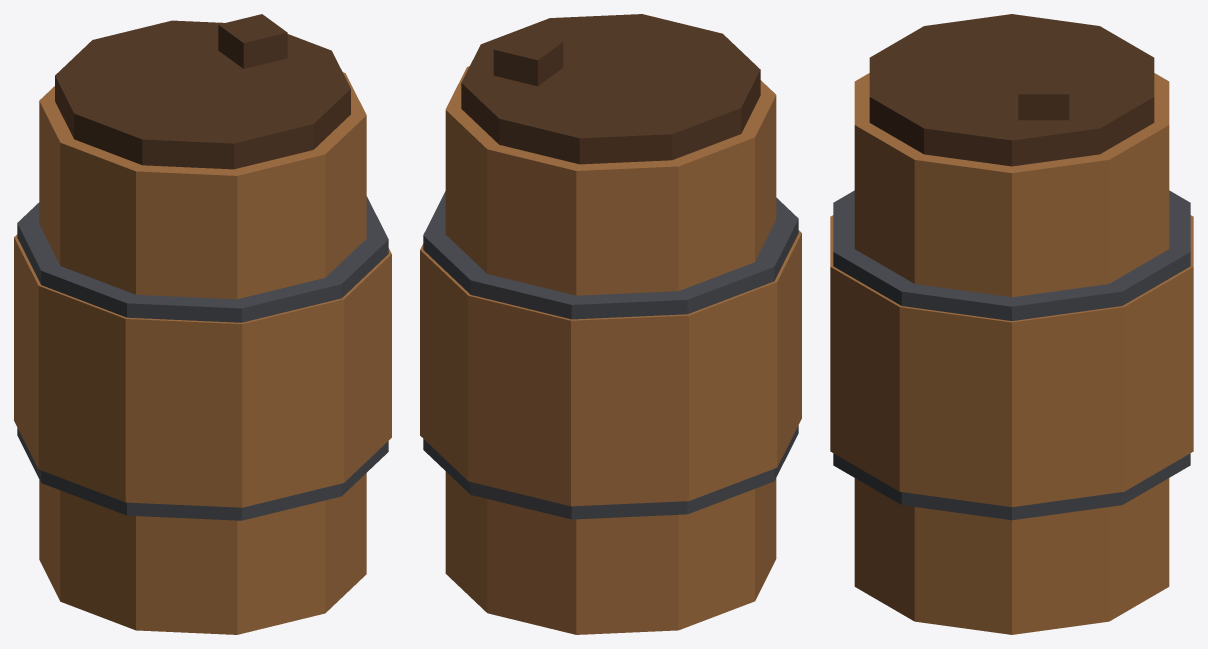
File: shipwreck_barrel.glb
The picture shows the model from 3 angles, left to right: view 1: azimuth 30°, elevation 25°; view 2: azimuth 150°, elevation 25°; view 3: azimuth 270°, elevation 25°; orthographic projection.
Parts seen in each view (by area): view 1: barrel_body_1, barrel_body_2, barrel_body_0, lid, iron_hoop_1, iron_hoop_0, bung; view 2: barrel_body_1, barrel_body_2, barrel_body_0, lid, iron_hoop_1, iron_hoop_0, bung; view 3: barrel_body_1, barrel_body_2, barrel_body_0, lid, iron_hoop_1, iron_hoop_0, bung.
Part boxes in pixels (x1,y1,x2,y2): barrel_body_1: (14,234,391,507); barrel_body_2: (39,72,366,299); barrel_body_0: (39,473,366,634); lid: (55,20,350,169); iron_hoop_1: (17,196,388,322); iron_hoop_0: (17,428,388,520); bung: (218,14,287,68); barrel_body_1: (420,230,801,506); barrel_body_2: (445,66,776,295); barrel_body_0: (445,471,776,634); lid: (461,14,760,164); iron_hoop_1: (423,191,798,319); iron_hoop_0: (423,425,798,519); bung: (493,31,563,86); barrel_body_1: (830,215,1193,506); barrel_body_2: (854,73,1169,297); barrel_body_0: (854,478,1169,634); lid: (869,14,1154,166); iron_hoop_1: (833,190,1190,320); iron_hoop_0: (833,453,1190,520); bung: (1018,72,1069,120).
Size of what is drawn, in the model's own units: 0.6 by 0.89 by 0.5706.
